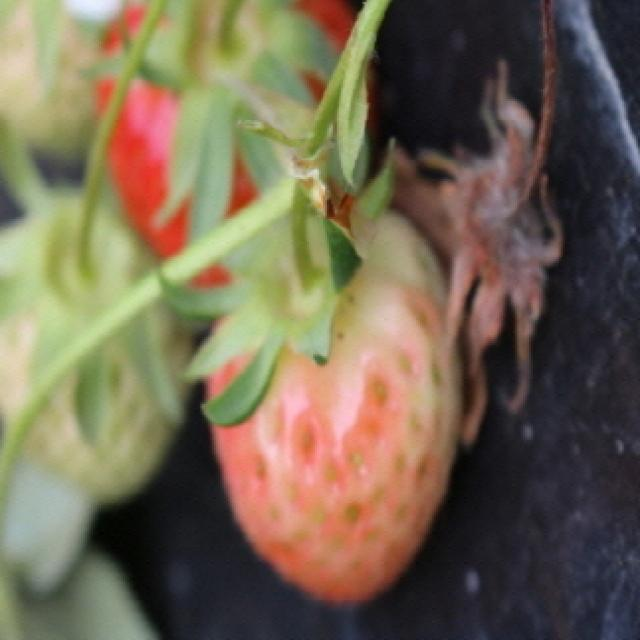Gray Mold: (391, 59, 567, 450)
